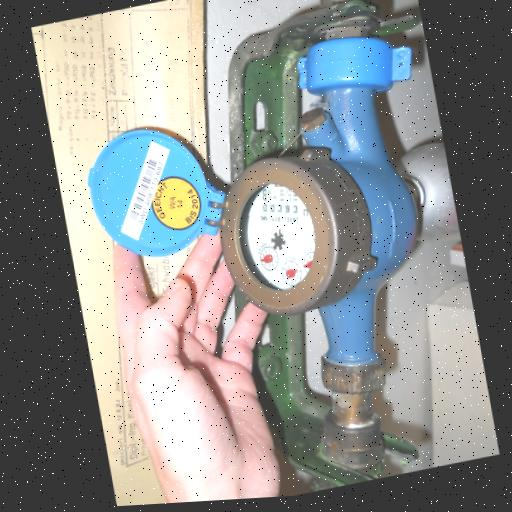0: (259, 202, 269, 216), (267, 202, 277, 216)
3: (274, 203, 285, 216), (291, 204, 301, 217)
9: (282, 203, 293, 217)
border_water_meter_number: (259, 196, 300, 223)
